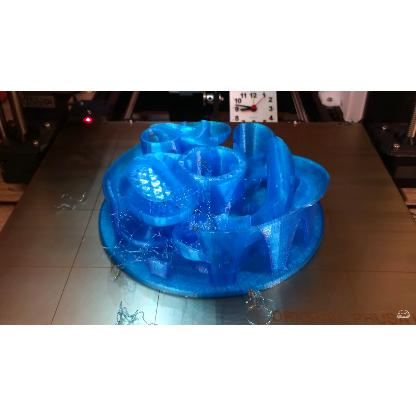fail: (110, 210, 188, 266)
